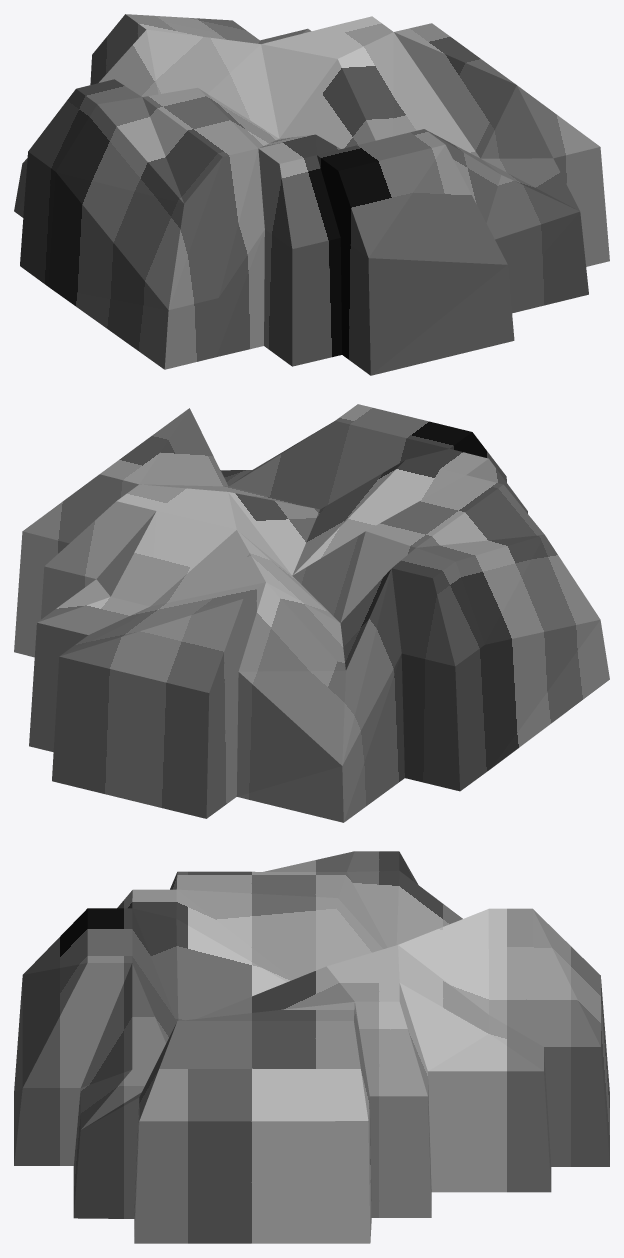
File: rock_331x07.gltf
3 views of the same model, one above another, from view 1: azimuth 30°, elevation 25°; view 2: azimuth 150°, elevation 25°; view 3: azimuth 270°, elevation 25° (orthographic). The views are drawn at different scales.
Visible parts, largest first — view 1: Rock_331x7; view 2: Rock_331x7; view 3: Rock_331x7.
Part boxes in pixels (box(x1,y1,x2,y2)): Rock_331x7: box(14, 14, 609, 375); Rock_331x7: box(14, 404, 609, 822); Rock_331x7: box(14, 851, 609, 1243).
Size of the model in its own units: 0.4886 by 0.1862 by 0.541.
Materials: 1 (1 with a texture image).
